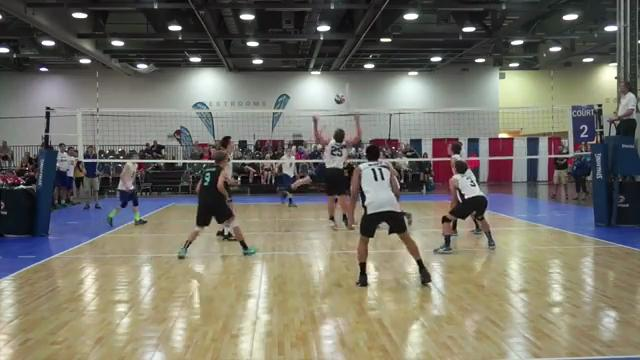Player: (350, 145, 430, 286), (178, 151, 255, 258), (434, 161, 495, 253), (313, 114, 361, 227), (107, 153, 146, 225), (218, 136, 235, 194), (280, 149, 296, 206), (290, 163, 311, 190), (448, 142, 463, 173), (387, 163, 399, 187)
ball: (334, 94, 346, 104)
